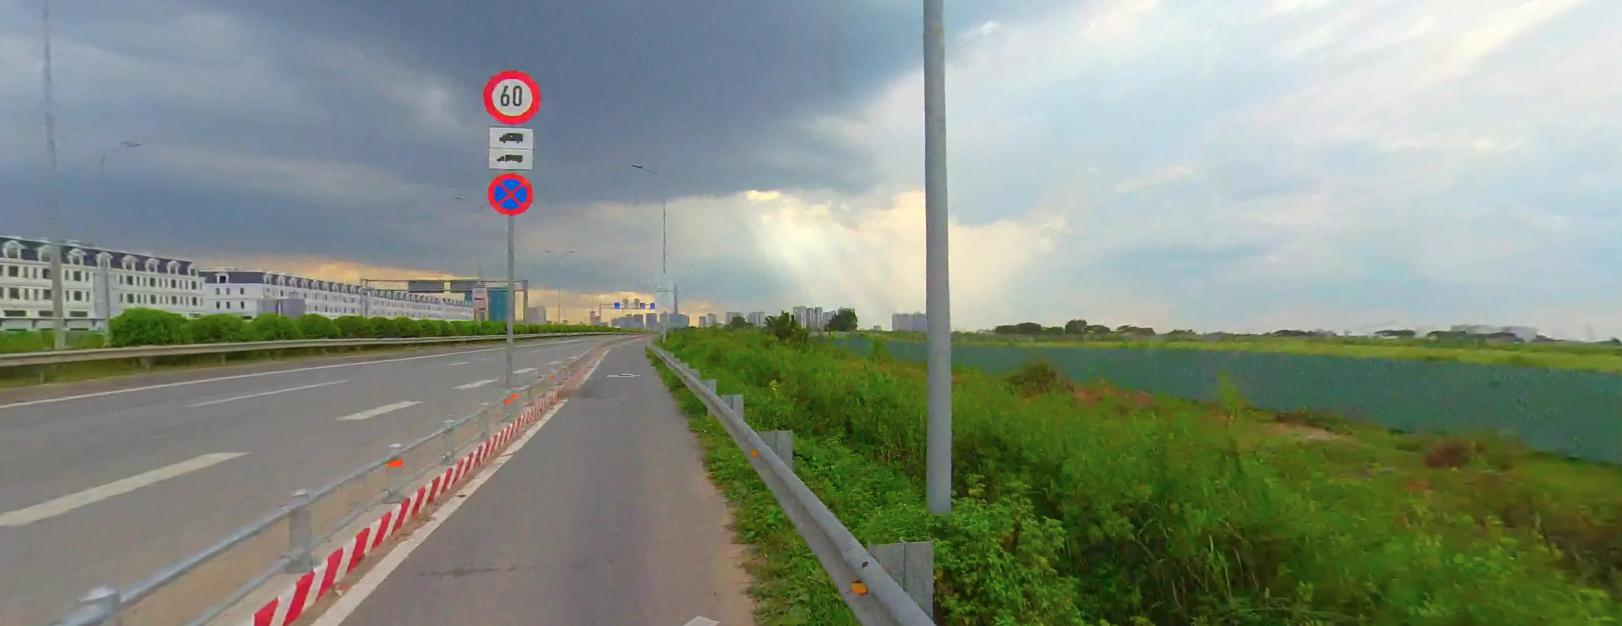Cam dung va do: (487, 166, 540, 215)
Gioi han toc do: (483, 66, 543, 121)
